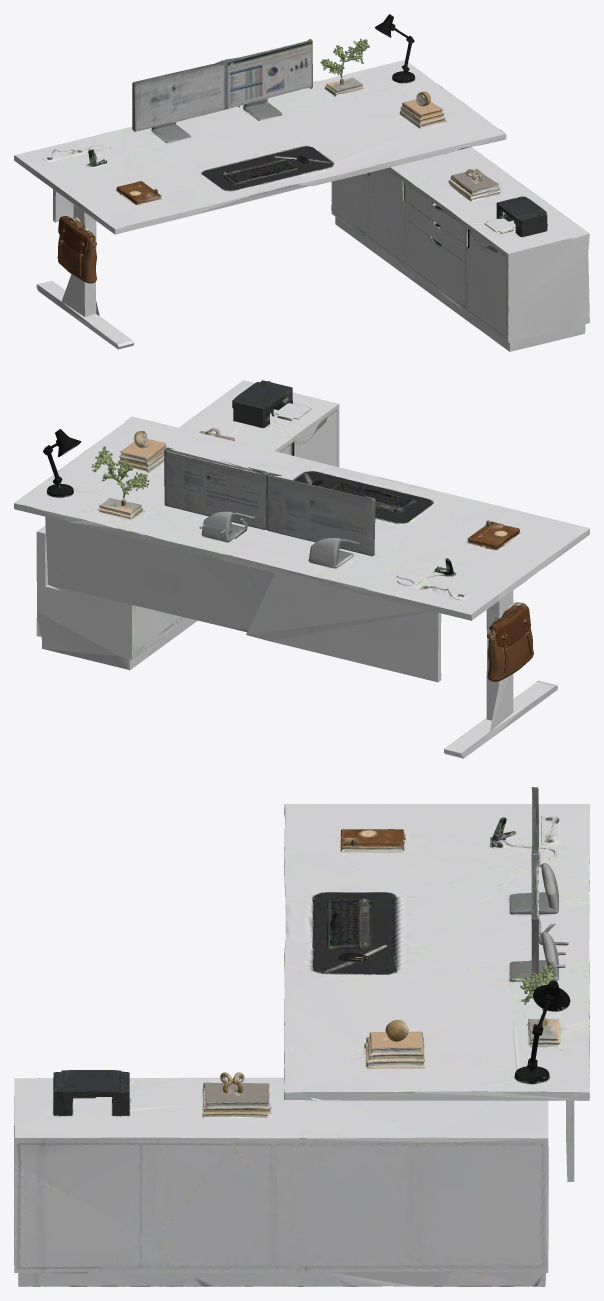
Rendered from wayfair-com-furniture-pdp-inbox-zero-executive-l-shaped-elec-98ca1f.glb.
The picture shows the model from 3 angles, top to bottom: view 1: azimuth 30°, elevation 25°; view 2: azimuth 150°, elevation 25°; view 3: azimuth 270°, elevation 25°; orthographic projection. The views are drawn at different scales.
Parts seen in each view (by area): view 1: Mesh_0; view 2: Mesh_0; view 3: Mesh_0.
Part boxes in pixels (bbox=[...]): Mesh_0: bbox=[14, 14, 589, 351]; Mesh_0: bbox=[14, 380, 589, 758]; Mesh_0: bbox=[14, 787, 589, 1286].
Size of the model in its own units: 1.9 by 0.9029 by 1.61.
1 material, 1 textured.
